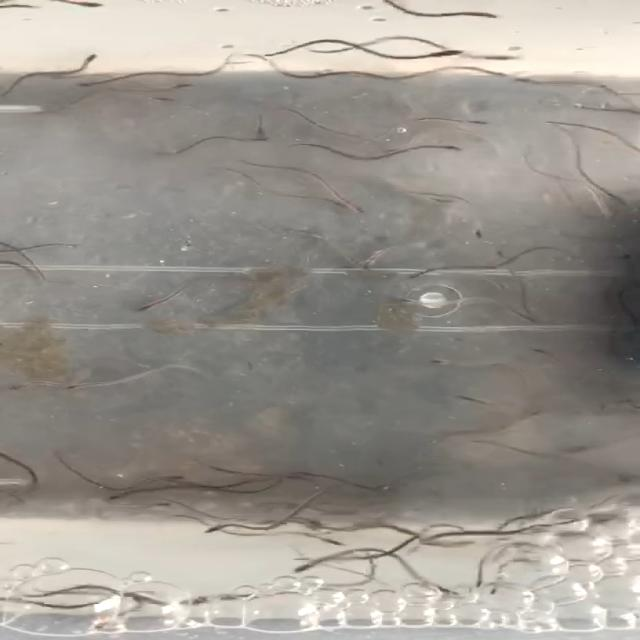active_glass_eel: (74, 46, 123, 74), (461, 6, 521, 28), (434, 138, 486, 160), (598, 188, 640, 215), (481, 47, 537, 67), (54, 378, 102, 401), (422, 42, 472, 64), (554, 440, 604, 461), (472, 64, 524, 84), (457, 222, 504, 244), (166, 74, 220, 93), (454, 110, 504, 130), (144, 90, 190, 110), (153, 468, 210, 484), (408, 529, 458, 547), (122, 300, 171, 318), (413, 354, 462, 372), (338, 196, 378, 218), (180, 592, 227, 610), (200, 518, 242, 538), (313, 530, 353, 551), (244, 124, 278, 148), (67, 0, 124, 14), (418, 582, 458, 600), (102, 481, 134, 503), (7, 376, 35, 399), (288, 559, 318, 580), (347, 260, 384, 276), (476, 585, 512, 601), (398, 268, 433, 284), (464, 574, 496, 591), (491, 248, 521, 266), (526, 408, 558, 424)
